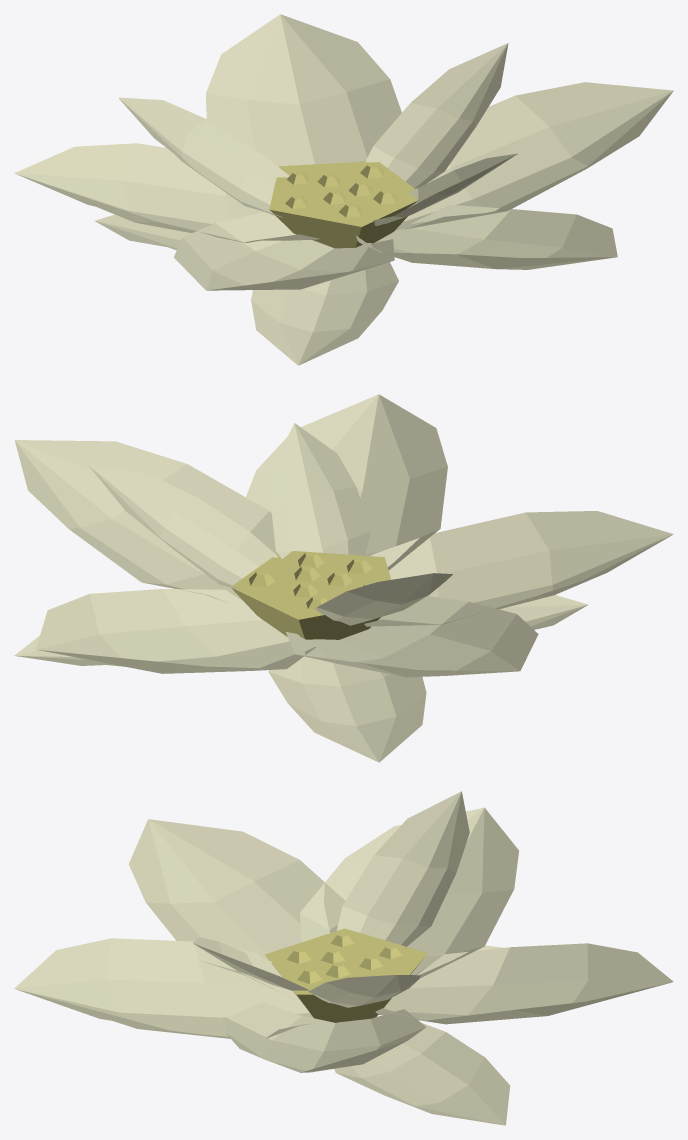
3 renders of one model, top to bottom at view 1: azimuth 30°, elevation 25°; view 2: azimuth 150°, elevation 25°; view 3: azimuth 270°, elevation 25°, orthographic. The views are drawn at different scales.
Parts seen in each view (by area): view 1: polySurface9117; view 2: polySurface9117; view 3: polySurface9117.
Boxes of the visible parts, <box> form: polySurface9117: <box>14,14,673,365</box>; polySurface9117: <box>14,394,673,762</box>; polySurface9117: <box>14,791,673,1125</box>.
Bounding box in the file's own units: 39.83 × 10.93 × 40.11.
